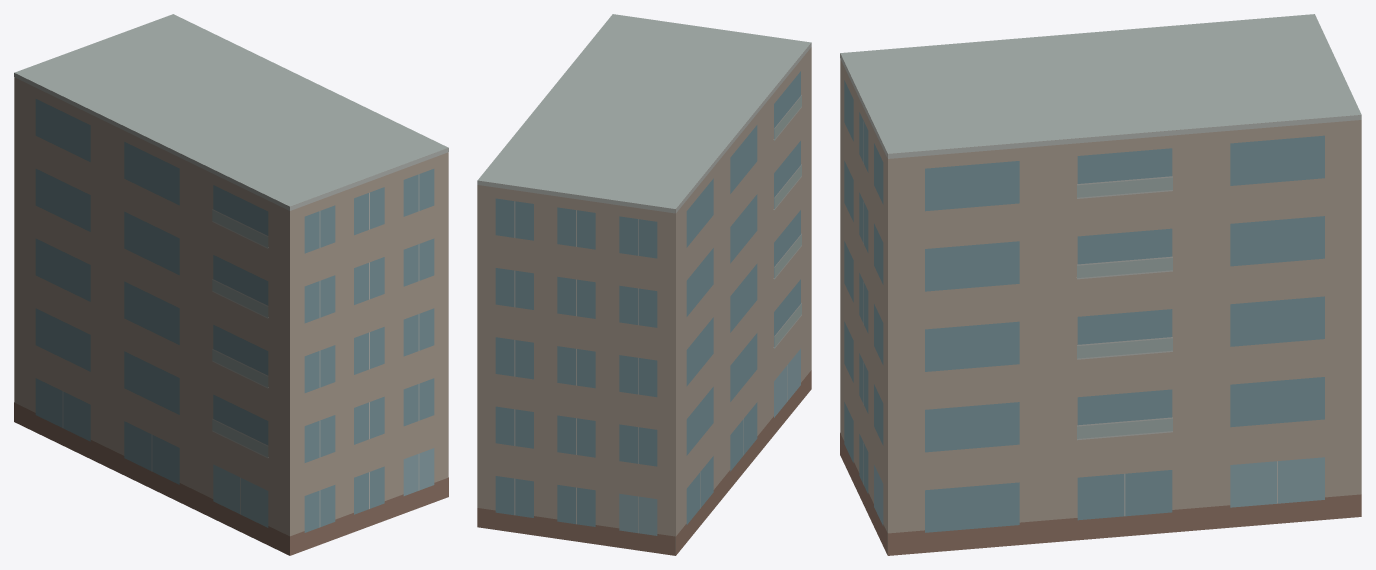
Rendered from survey-upis-32719354.glb.
The picture shows the model from 3 angles, left to right: view 1: azimuth 30°, elevation 25°; view 2: azimuth 150°, elevation 25°; view 3: azimuth 270°, elevation 25°; orthographic projection. The views are drawn at different scales.
Parts seen in each view (by area): view 1: survey-upis-32719354.tmp; view 2: survey-upis-32719354.tmp; view 3: survey-upis-32719354.tmp.
Boxes of the visible parts, x1,y1,x2,y2 form: survey-upis-32719354.tmp: (14, 14, 448, 555); survey-upis-32719354.tmp: (477, 14, 811, 555); survey-upis-32719354.tmp: (840, 14, 1361, 555).
Size of the model in its own units: 14.38 by 19.25 by 22.64.
